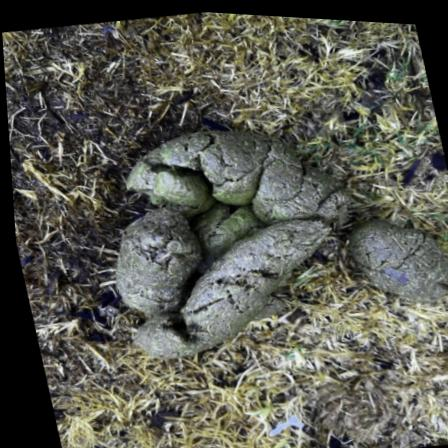dog-poop: (68, 86, 448, 379)
